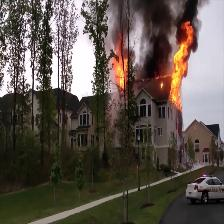fire: (176, 23, 192, 108), (110, 48, 129, 91)
smoke: (138, 0, 171, 77), (182, 0, 198, 20)
